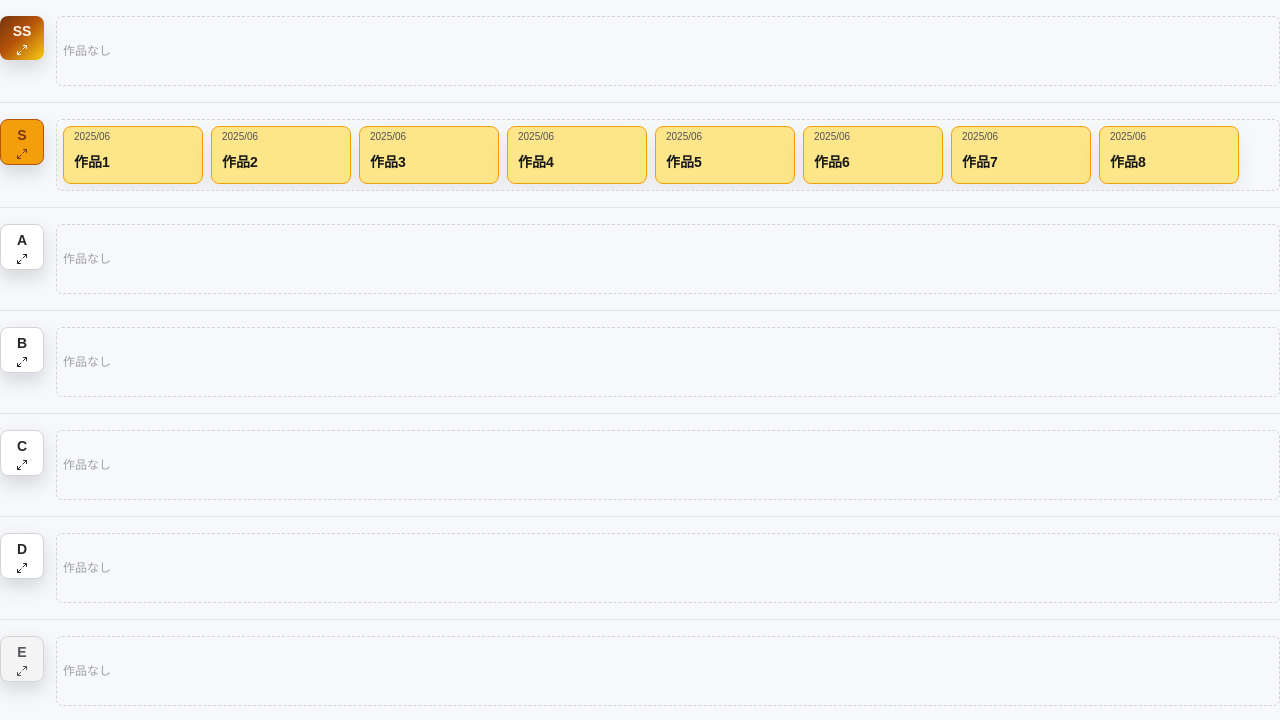
Test: allows a read-only tier to expand without insertion or movement controls
What coordinates should you click on to do the following:
click the button named "Sティアを拡大"
I would click on:
 (22, 142)
Its box is [1,120,43,164].
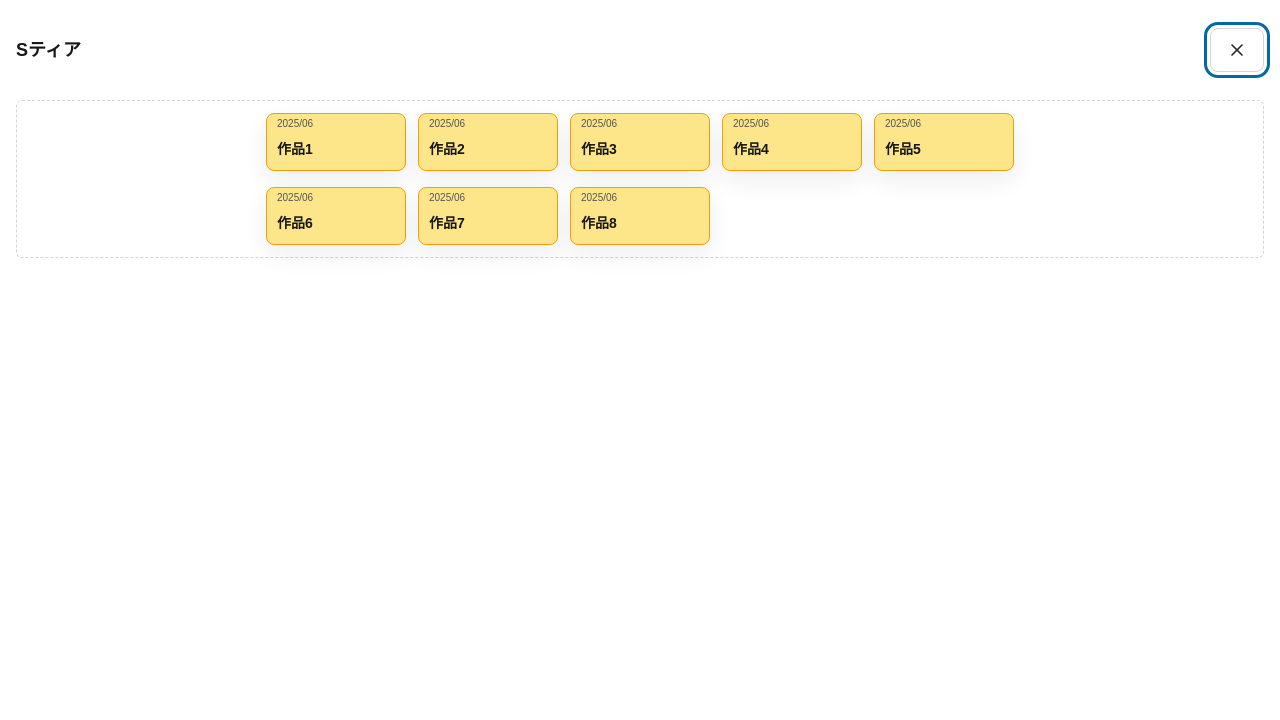
Result: the dialog "Sティア" is shown
